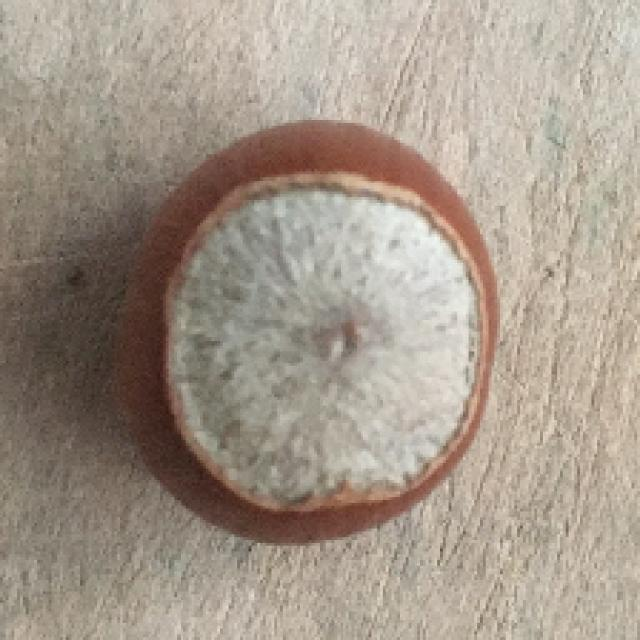qualityHazelnut: (120, 117, 500, 544)
